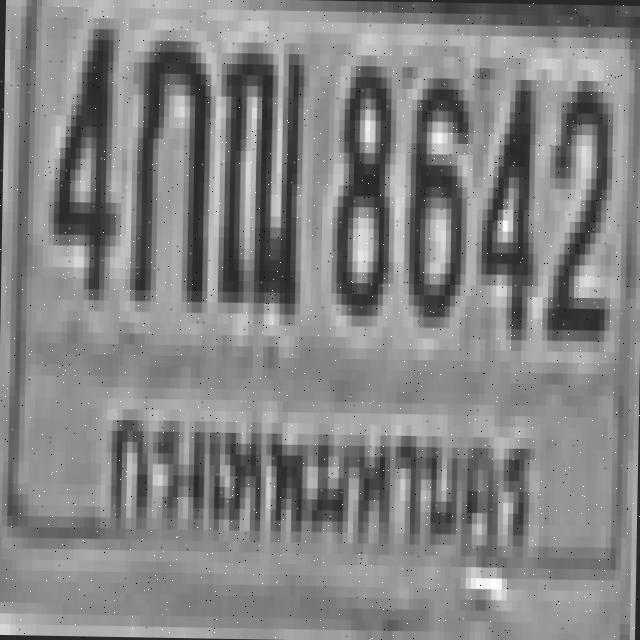10GorGai: (124, 24, 212, 311)
2: (542, 69, 608, 331)
28NorNen: (214, 31, 304, 313)
4: (47, 7, 120, 302), (474, 68, 536, 343)
6: (402, 66, 468, 322)
8: (330, 54, 396, 314)
Bangkok: (95, 368, 535, 564)
